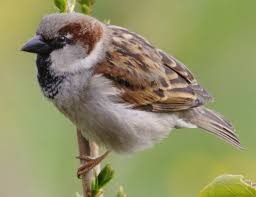hsparrow: (18, 10, 244, 180)
